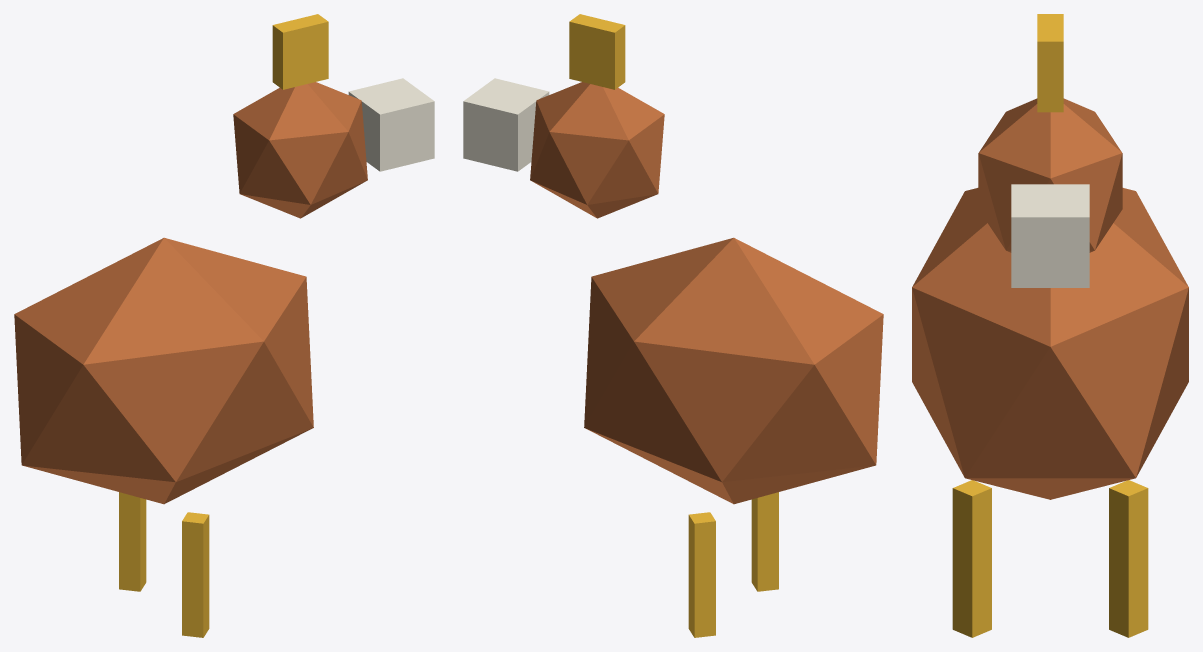
File: Mob_OR_DicebeakHen_03.glb
3 renders of one model, left to right at view 1: azimuth 30°, elevation 25°; view 2: azimuth 150°, elevation 25°; view 3: azimuth 270°, elevation 25°, orthographic. The views are drawn at different scales.
Visible parts, largest first — view 1: Mob_OR_DicebeakHen_03; view 2: Mob_OR_DicebeakHen_03; view 3: Mob_OR_DicebeakHen_03.
Boxes of the visible parts, x1,y1,x2,y2 form: Mob_OR_DicebeakHen_03: [14, 14, 434, 637]; Mob_OR_DicebeakHen_03: [463, 14, 883, 637]; Mob_OR_DicebeakHen_03: [912, 14, 1188, 637].
Size of the model in its own units: 0.4365 by 0.58 by 0.2127.
